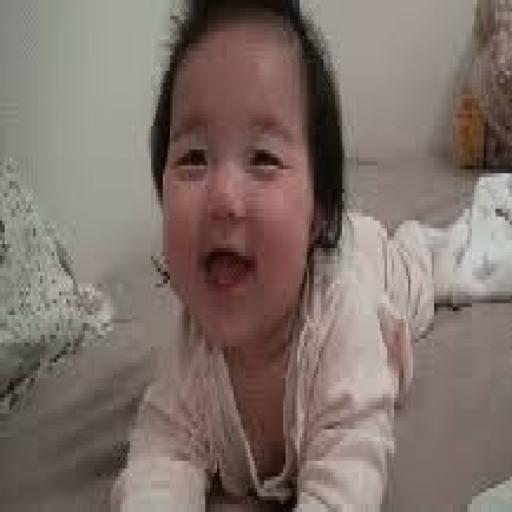laughing: (102, 4, 418, 504)
